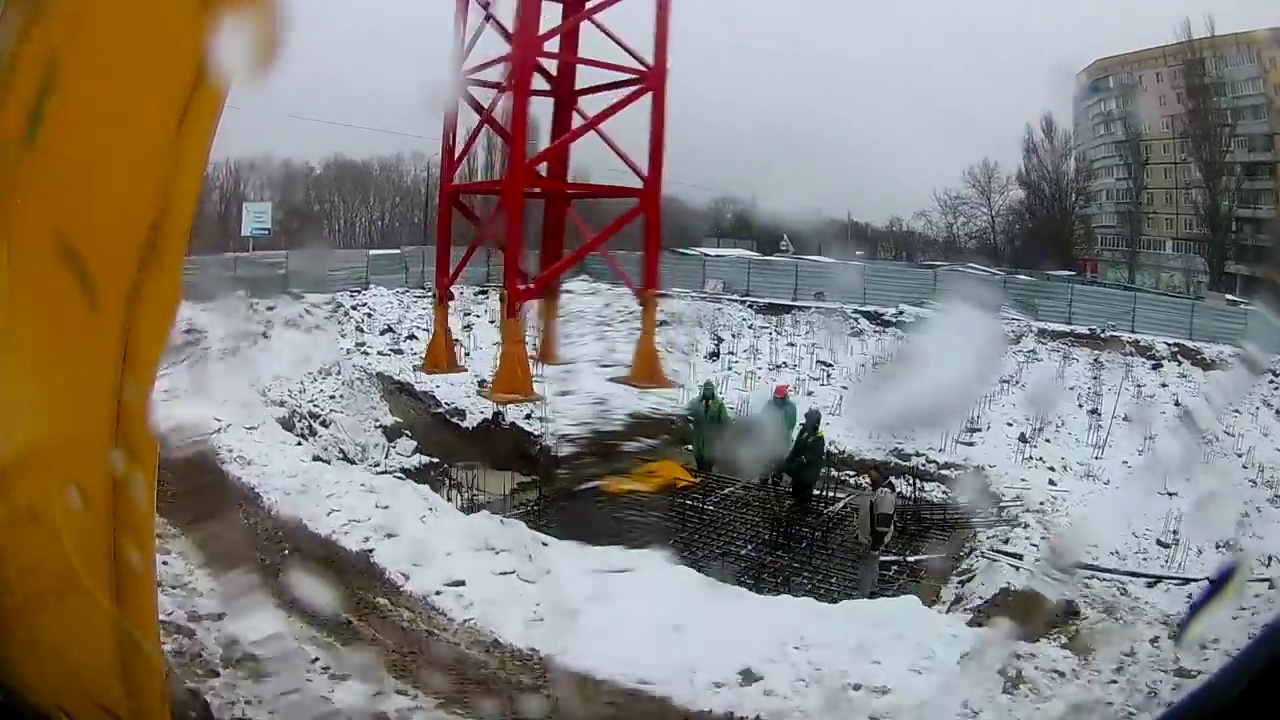helmet: (773, 386, 788, 398)
helmet-off: (800, 408, 822, 438), (868, 463, 891, 489), (702, 381, 715, 401)
helmet-on: (774, 385, 789, 402)
person: (853, 462, 893, 602), (755, 385, 801, 501), (683, 380, 733, 486), (787, 407, 825, 517)
